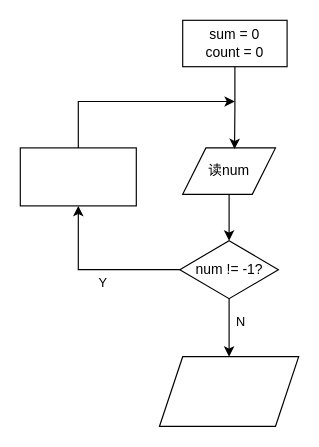
Image size: 319x447. Some labels were removed from this diagram. The shapes that lost their labels are listed below. From the top down, each one's centre as x and y in pixels, then its label:
At pixel 77 176: "sum += num count ++".
At pixel 228 391: "计算和打印结果".
